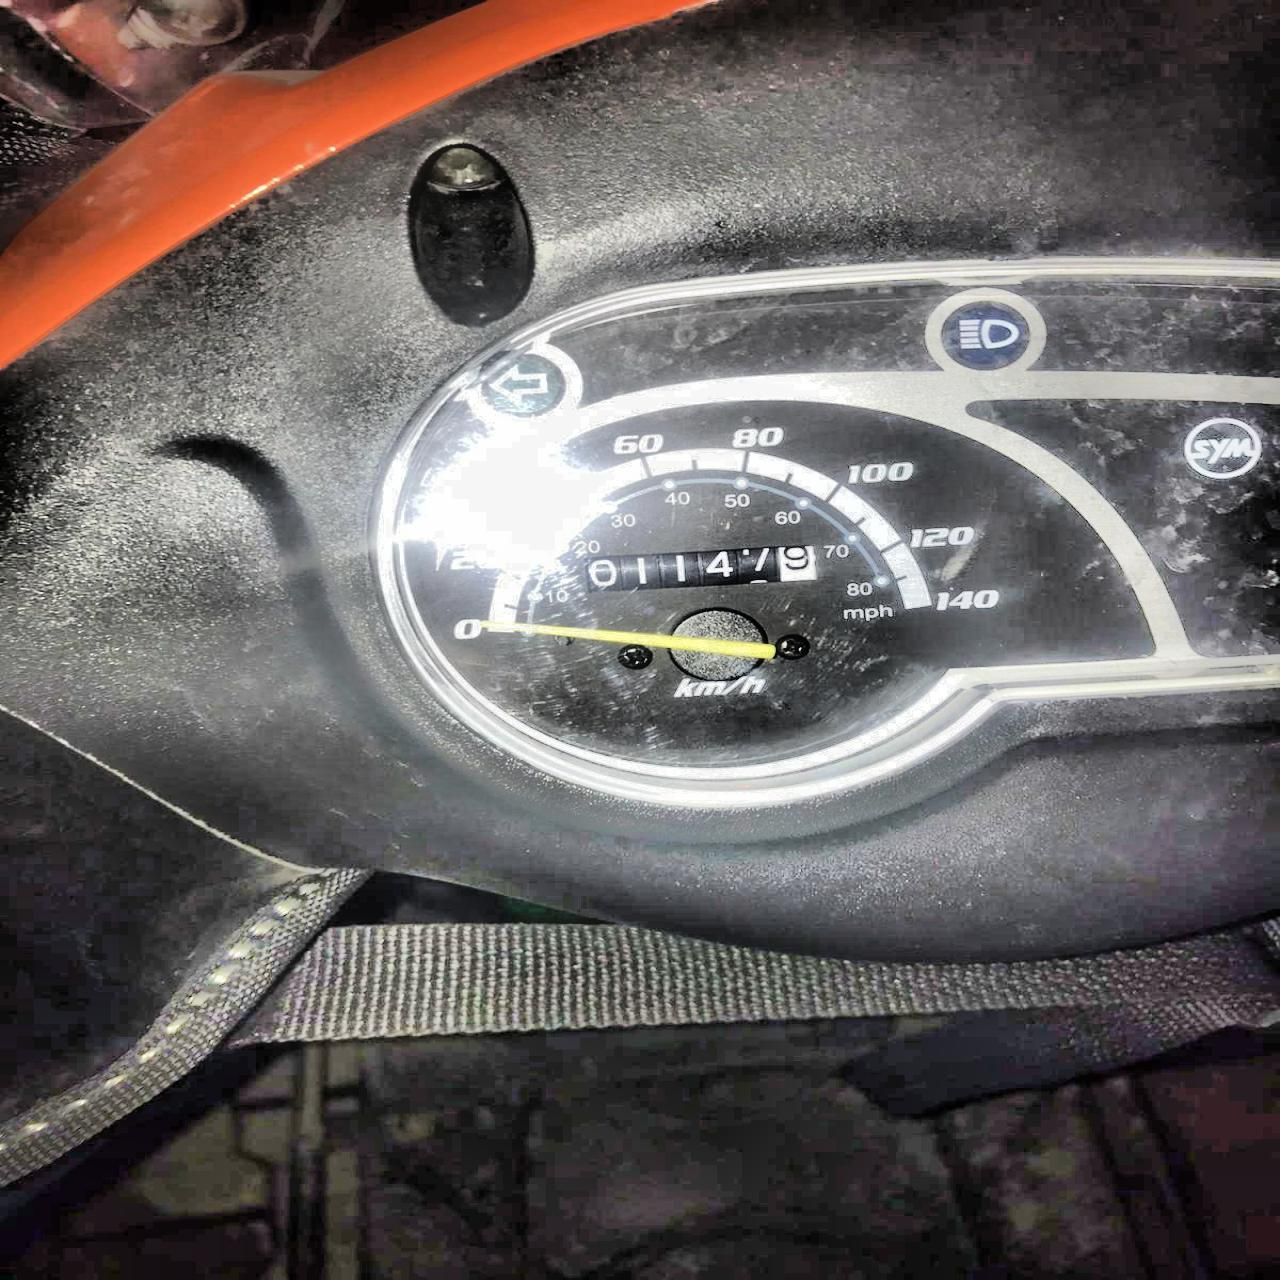0: (583, 559, 619, 590), (586, 538, 602, 552)
1: (669, 550, 689, 585), (632, 552, 649, 588)
2: (572, 539, 586, 554)
4: (703, 550, 734, 579)
7: (742, 545, 775, 572)
9: (781, 545, 813, 573)
odometer: (572, 542, 825, 593)
